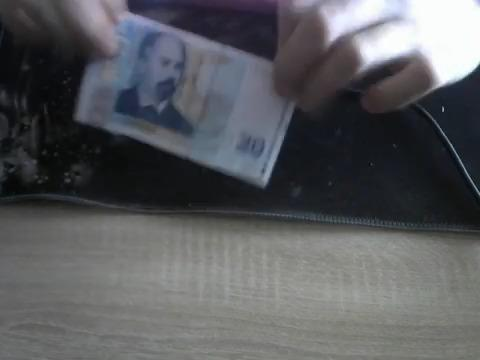20leva: (73, 14, 296, 189)
